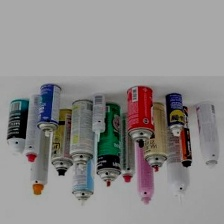aerosol_cans: (162, 108, 192, 204), (67, 118, 97, 209), (92, 100, 122, 190), (66, 96, 100, 171), (25, 111, 53, 199), (47, 106, 79, 182), (140, 100, 171, 175), (122, 83, 156, 147), (192, 99, 221, 172), (132, 123, 157, 207), (20, 91, 47, 165), (2, 95, 31, 159), (115, 110, 139, 187), (33, 81, 64, 138), (174, 103, 195, 170), (86, 91, 110, 144), (163, 91, 185, 141)
